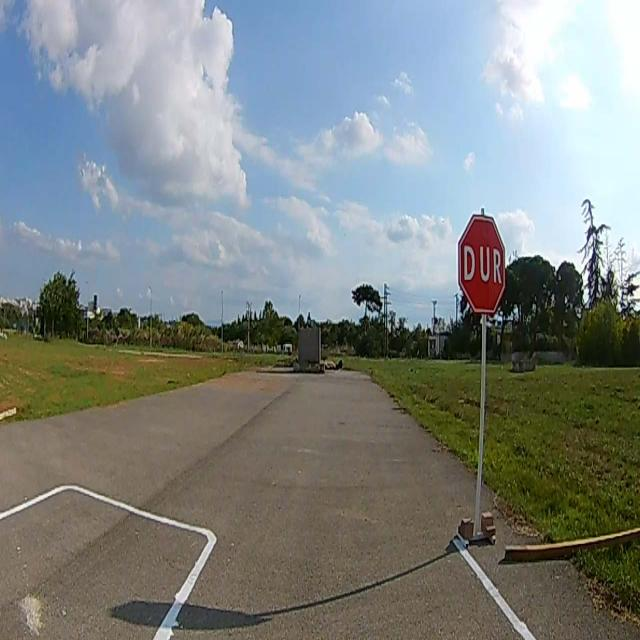dur: (457, 214, 505, 316)
